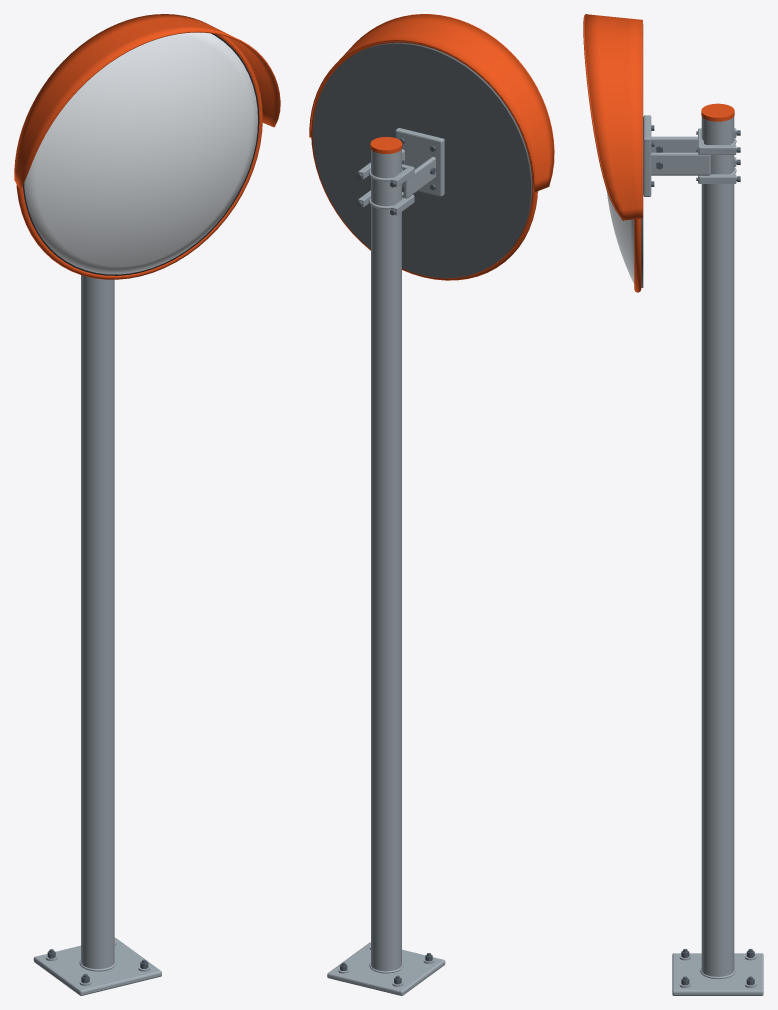
The model's file is convex_traffic_mirror_LOD1.glb.
3 renders of one model, left to right at view 1: azimuth 30°, elevation 25°; view 2: azimuth 150°, elevation 25°; view 3: azimuth 270°, elevation 25°, orthographic. The views are drawn at different scales.
Visible parts, largest first — view 1: Convex_Mirror_Face, Steel_Pole, Orange_Rain_Hood, Ground_Base_Plate, Orange_Perimeter_Rim, Hood_Rolled_Edge, Perimeter_Gasket; view 2: Flat_Rear_Panel, Steel_Pole, Orange_Rain_Hood, Ground_Base_Plate, Rear_Mounting_Plate, Orange_Perimeter_Rim, Adjustable_Clevis_Arm_-0.043; view 3: Steel_Pole, Orange_Rain_Hood, Ground_Base_Plate, Adjustable_Clevis_Arm_0.043, Convex_Mirror_Face, Adjustable_Clevis_Arm_-0.043, Rear_Mounting_Plate, Orange_Perimeter_Rim, Post_Top_Cap, Hood_Rolled_Edge.
Boxes of the visible parts, x1,y1,x2,y2 form: Convex_Mirror_Face: (24,32,257,274); Steel_Pole: (81,275,114,968); Orange_Rain_Hood: (14,14,278,188); Ground_Base_Plate: (33,937,161,995); Orange_Perimeter_Rim: (16,34,262,279); Hood_Rolled_Edge: (19,30,280,188); Perimeter_Gasket: (23,33,259,275); Flat_Rear_Panel: (312,42,532,278); Steel_Pole: (371,149,401,971); Orange_Rain_Hood: (309,14,553,192); Ground_Base_Plate: (327,942,445,995); Rear_Mounting_Plate: (395,128,444,196); Orange_Perimeter_Rim: (311,41,537,280); Adjustable_Clevis_Arm_-0.043: (403,157,435,198); Steel_Pole: (701,116,734,976); Orange_Rain_Hood: (584,14,642,220); Ground_Base_Plate: (672,953,763,995); Adjustable_Clevis_Arm_0.043: (651,152,710,175); Convex_Mirror_Face: (607,191,634,284); Adjustable_Clevis_Arm_-0.043: (651,136,697,152); Rear_Mounting_Plate: (643,115,651,196); Orange_Perimeter_Rim: (634,218,641,292); Post_Top_Cap: (701,103,734,121); Hood_Rolled_Edge: (583,14,623,220).
Size of the model in its own units: 0.6526 by 2.41 by 0.4142.
